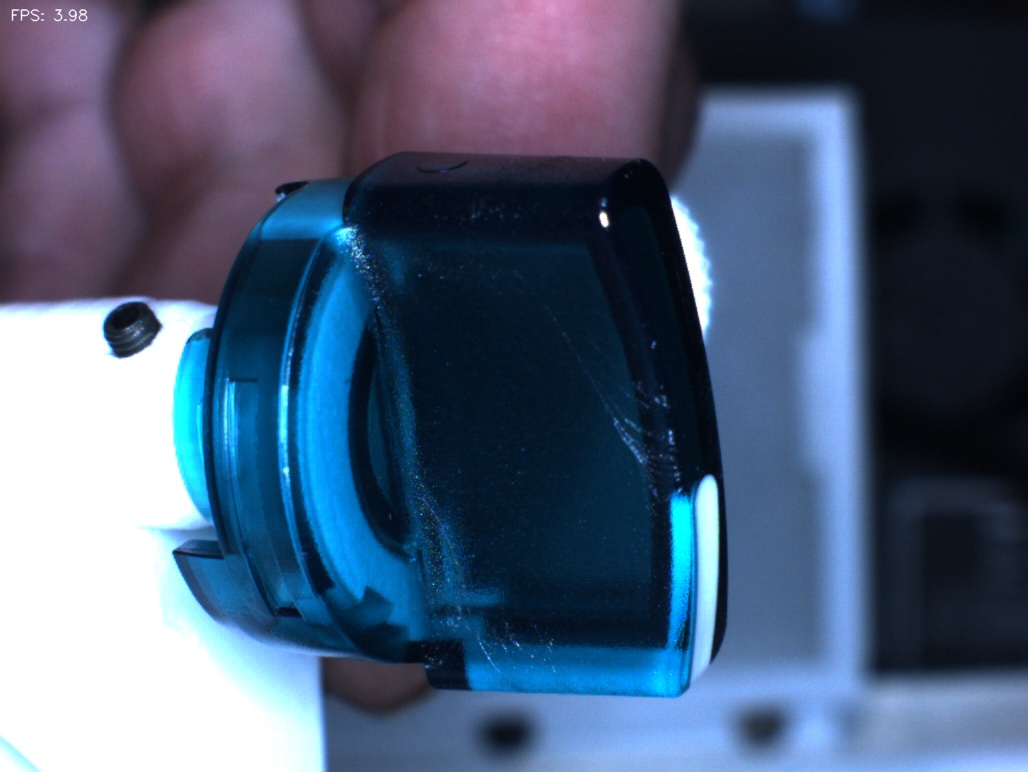Givrage: (577, 338, 679, 493)
